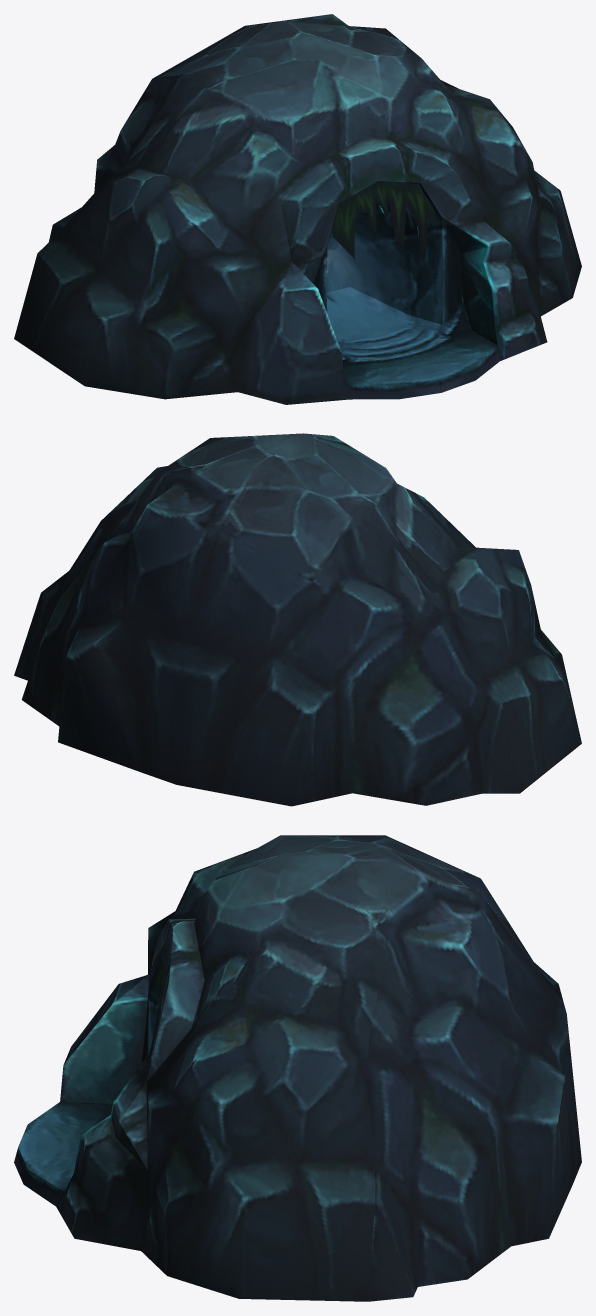
Rendered from H_Maze_shandong01.FBX.
The picture shows the model from 3 angles, top to bottom: view 1: azimuth 30°, elevation 25°; view 2: azimuth 150°, elevation 25°; view 3: azimuth 270°, elevation 25°; orthographic projection. The views are drawn at different scales.
Visible parts, largest first — view 1: shandong01; view 2: shandong01; view 3: shandong01.
Part boxes in pixels (x1,y1,x2,y2): shandong01: (14, 14, 581, 404); shandong01: (14, 433, 581, 806); shandong01: (14, 835, 581, 1301).
Bounding box in the file's own units: 383 × 186 × 314.
